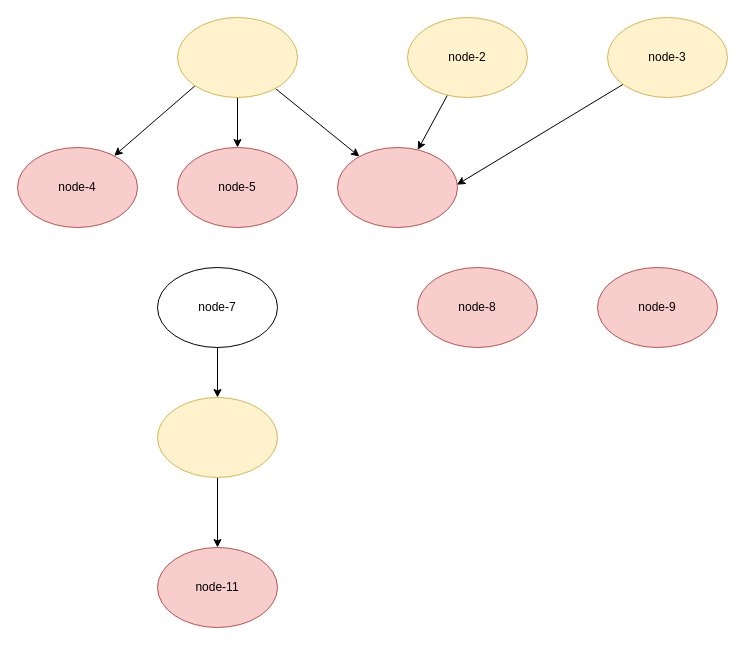
The diagram is 745 pixels wide and 645 high, and some of its shapes have lost their labels. Here are the shapes that lost their labels. From the top down, the centre of each, then its label:
At pixel 237 57: "node-1".
At pixel 397 187: "node-6".
At pixel 217 437: "node-10".
